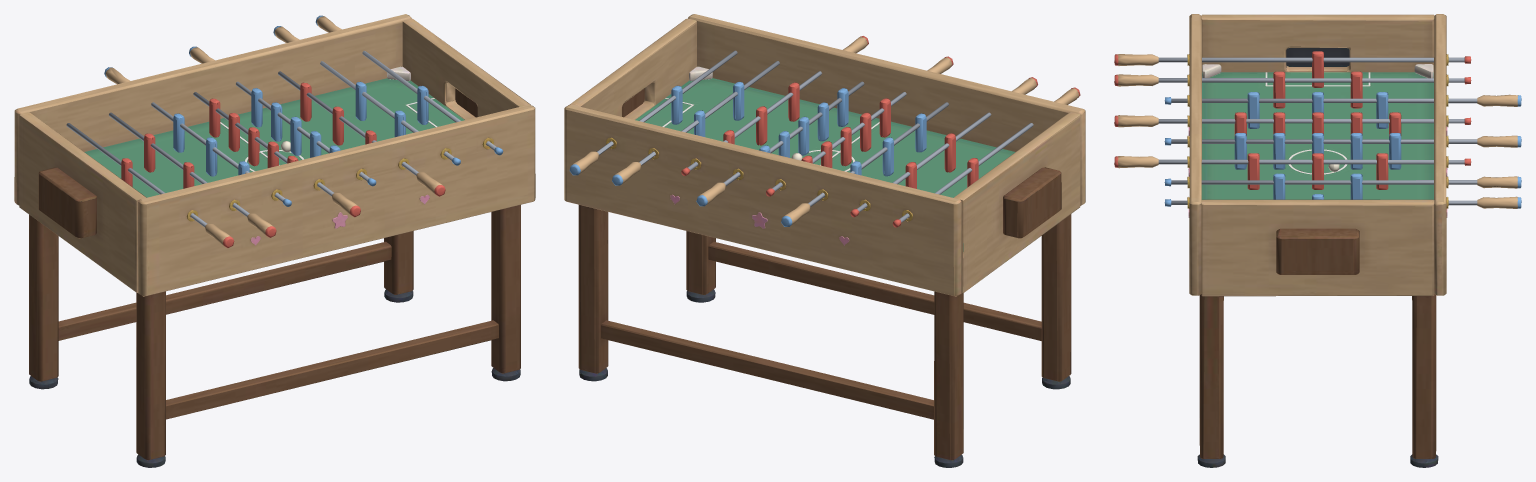
Rendered from futbolin.glb.
The picture shows the model from 3 angles, left to right: view 1: azimuth 30°, elevation 25°; view 2: azimuth 150°, elevation 25°; view 3: azimuth 270°, elevation 25°; orthographic projection.
Visible parts, largest first — view 1: foosball-table_ball; view 2: foosball-table_ball; view 3: foosball-table_ball.
Boxes of the visible parts, left/top/right/bottom form: foosball-table_ball: left=14, top=14, right=535, bottom=467; foosball-table_ball: left=564, top=14, right=1085, bottom=467; foosball-table_ball: left=1114, top=14, right=1521, bottom=467.
Bounding box in the file's own units: 1.54 × 0.9194 × 1.27.
8 materials, 1 textured.
